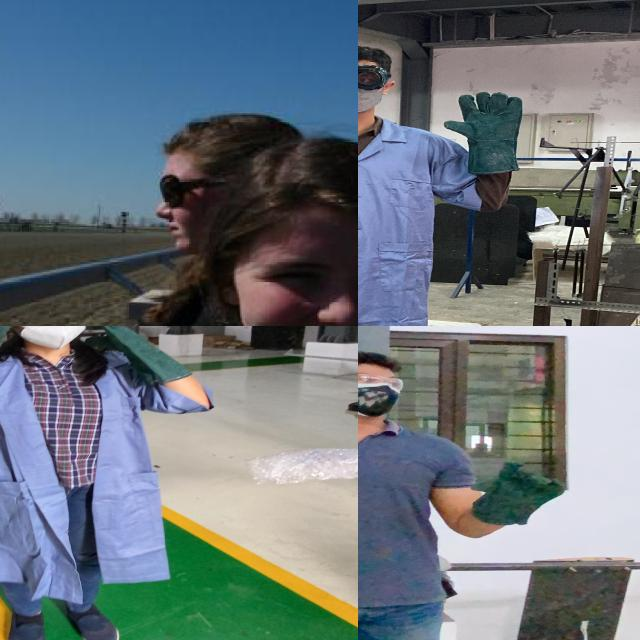face_mask: (358, 372, 406, 414), (4, 326, 95, 348), (358, 66, 386, 114)
face_nomask: (245, 246, 358, 326)
glasses: (154, 159, 237, 206), (358, 61, 395, 95), (358, 371, 407, 392)
hand_glove: (464, 457, 566, 516), (438, 90, 530, 148), (76, 326, 138, 351)
head_nohelmet: (234, 123, 358, 237), (148, 105, 270, 168), (358, 346, 408, 379), (358, 38, 395, 72)
person: (0, 326, 220, 640), (358, 36, 532, 326), (358, 353, 518, 640)
shoes: (56, 601, 124, 640), (0, 606, 59, 640)
